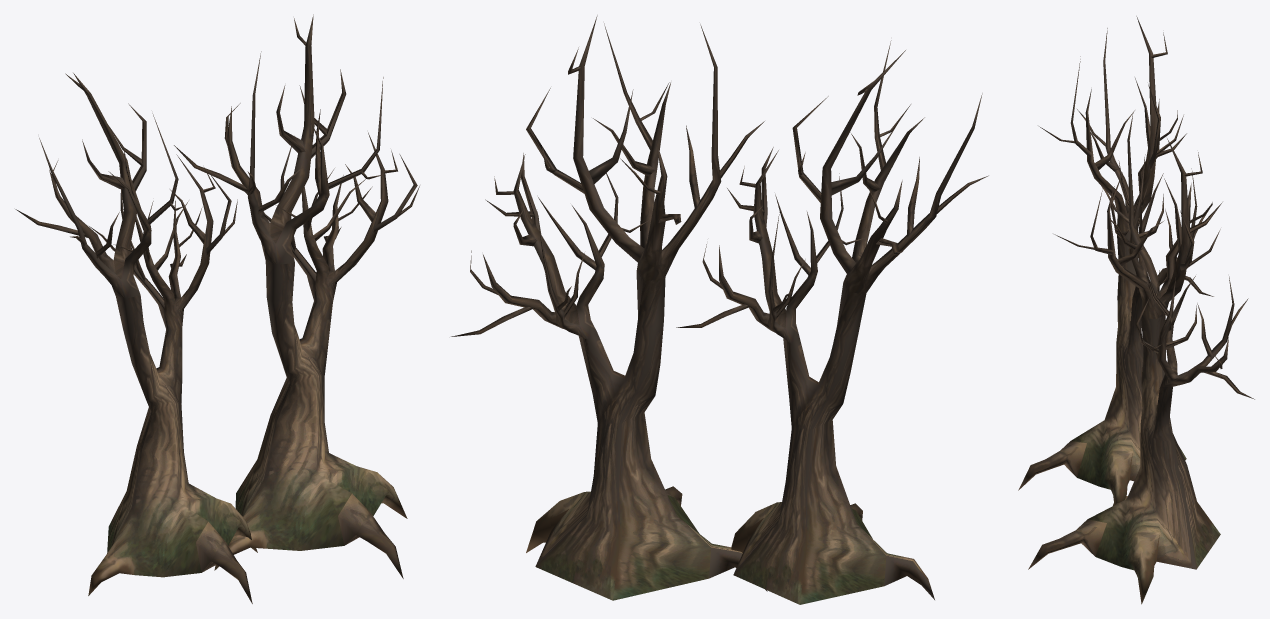
Rendered from plants_tall_tree_trunks01.fbx.
3 renders of one model, left to right at view 1: azimuth 30°, elevation 25°; view 2: azimuth 150°, elevation 25°; view 3: azimuth 270°, elevation 25°, orthographic. The views are drawn at different scales.
Parts seen in each view (by area): view 1: Material_#238683193/fancy_tree; view 2: Material_#238683193/fancy_tree; view 3: Material_#238683193/fancy_tree.
Part boxes in pixels (x1,y1,x2,y2): Material_#238683193/fancy_tree: (15,14,419,603); Material_#238683193/fancy_tree: (451,15,988,604); Material_#238683193/fancy_tree: (1018,16,1254,604).
Size of the model in its own units: 7.64 by 9.38 by 4.48.
